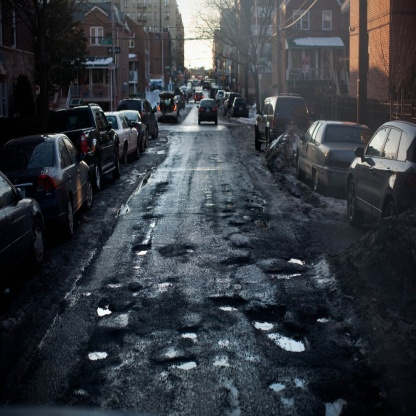pothole: (243, 299, 314, 358), (207, 200, 280, 255), (72, 337, 127, 374), (83, 294, 137, 329), (200, 291, 251, 318), (156, 348, 207, 374), (123, 234, 161, 261), (168, 320, 211, 343)
